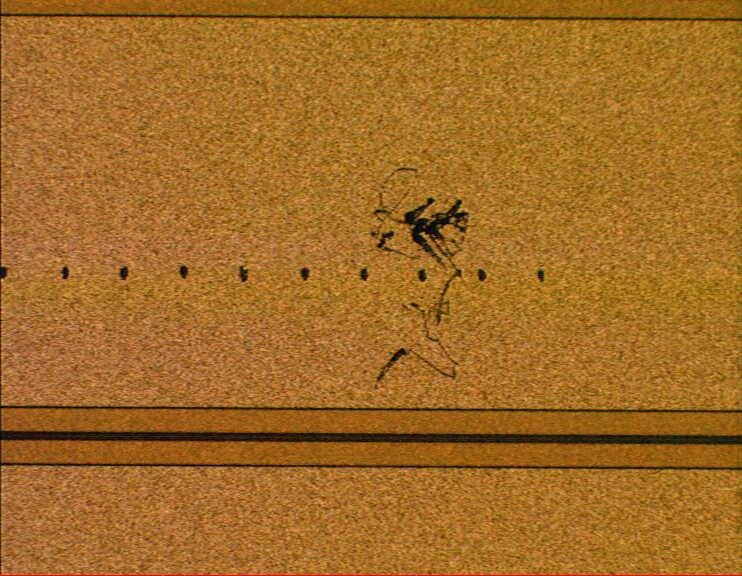SCRATCH: (364, 160, 478, 395)
